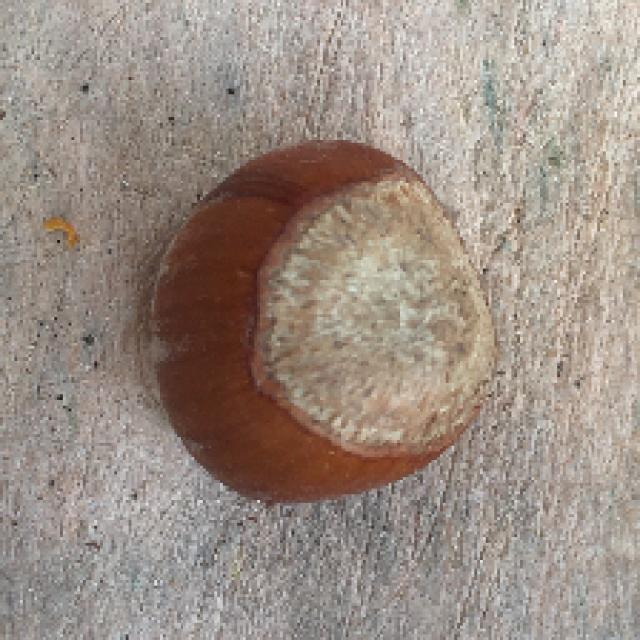qualityHazelnut: (128, 135, 497, 512)
